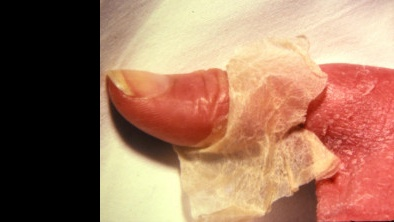SJS-TEN: (164, 33, 394, 222)
